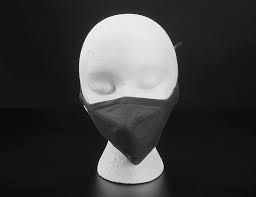with-mask: (75, 20, 183, 166)
